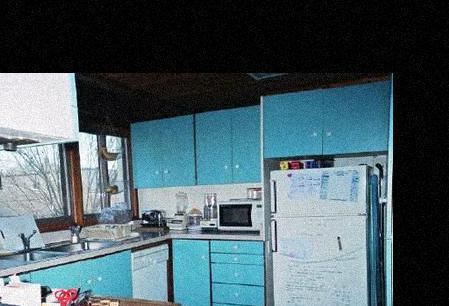Electrodomestico: (271, 172, 370, 306), (132, 246, 168, 301)
Lavaplatos: (43, 224, 120, 259), (4, 230, 68, 268)
